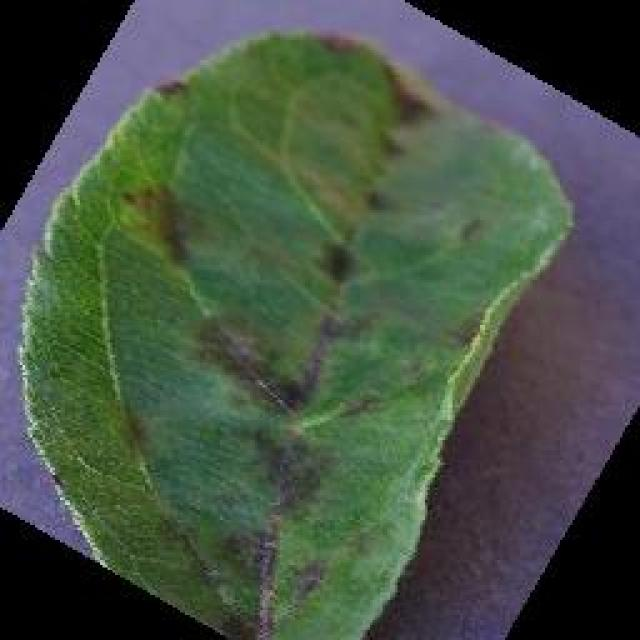apple scab disease: (13, 25, 575, 637)
